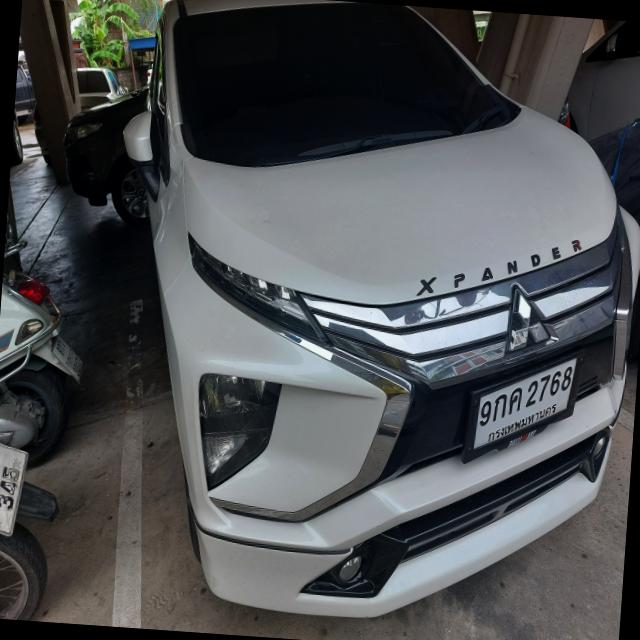license_plate: (459, 338, 590, 471)
